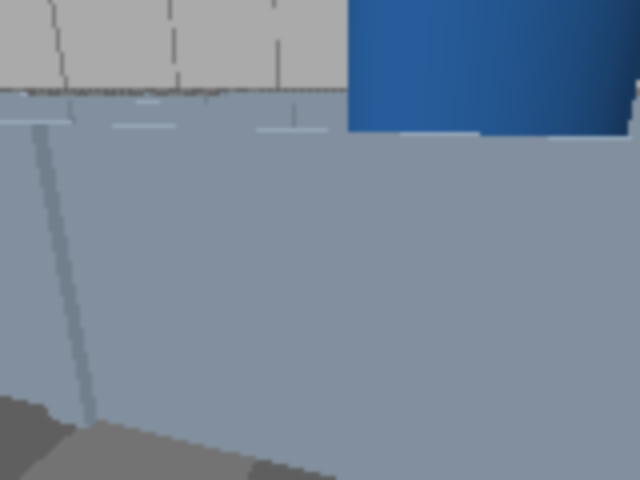person: (347, 0, 638, 406)
